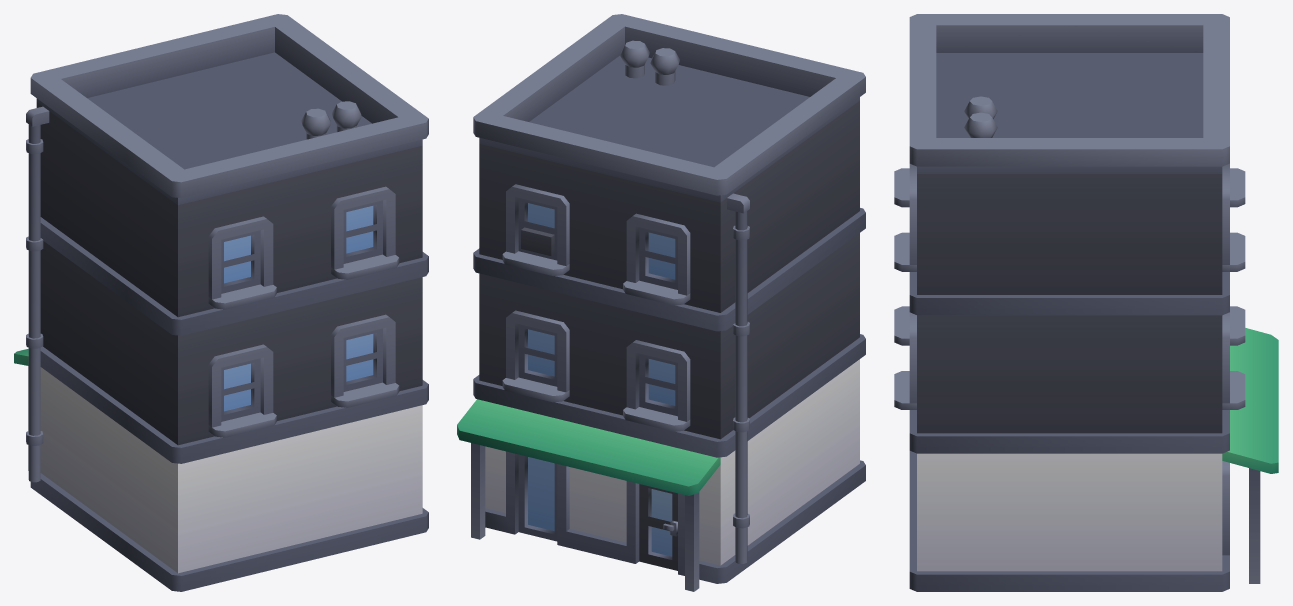
File: building-h.glb
3 views of the same model, side by side, from view 1: azimuth 30°, elevation 25°; view 2: azimuth 150°, elevation 25°; view 3: azimuth 270°, elevation 25° (orthographic). The views are drawn at different scales.
Visible parts, largest first — view 1: building-h; view 2: building-h; view 3: building-h.
Part boxes in pixels (box(x1,y1,x2,y2)): building-h: box(14, 14, 428, 591); building-h: box(457, 14, 865, 591); building-h: box(894, 14, 1278, 591).
Size of the model in its own units: 0.8836 by 1.29 by 1.01.
1 material, 1 textured.
